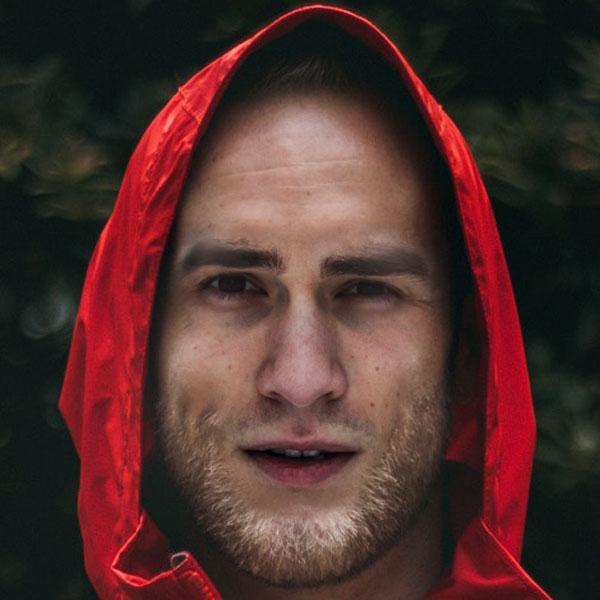Eyes: (188, 264, 278, 314), (326, 271, 410, 319)
